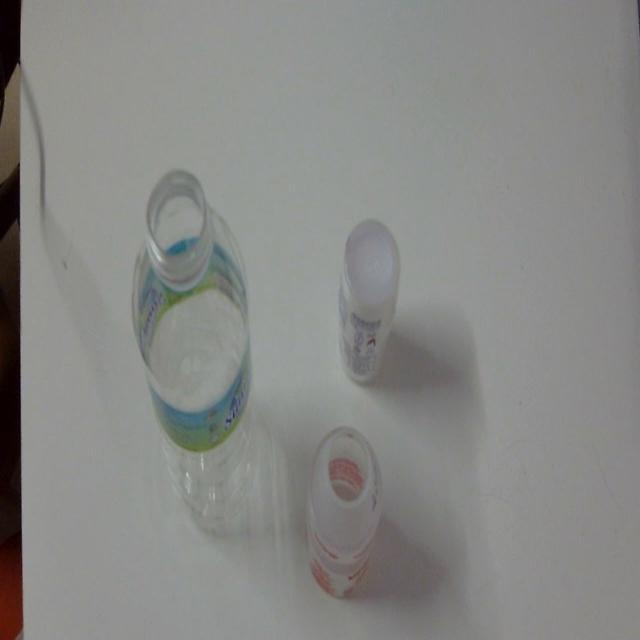plastic_standrotation: (123, 157, 269, 542), (298, 412, 390, 609), (332, 212, 406, 397)
